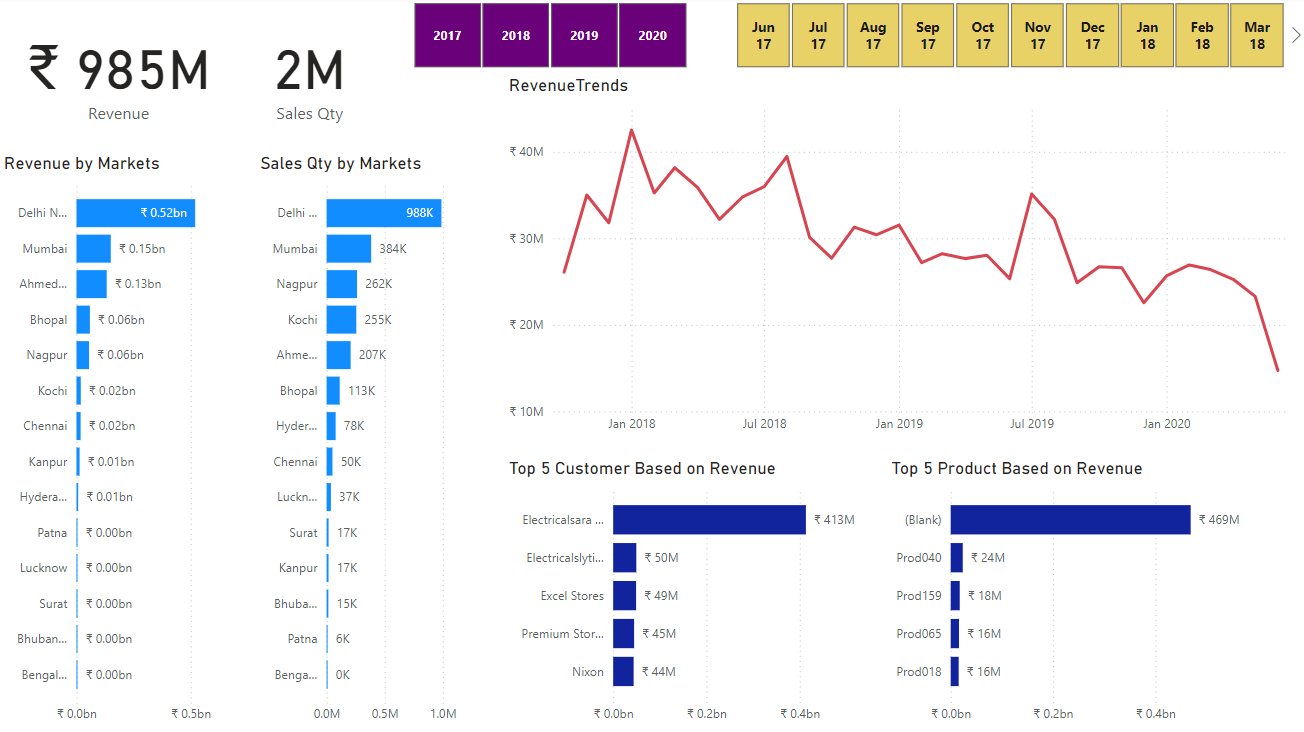

What the dashboard file says about the page in this screenshot:
{"tool":"powerbi","page":{"name":"Revenue Analysis","canvas":[1280,720],"ordinal":0},"visuals":[{"type":"card","fields":{"Values":["Base Measures.revenue"]},"box":[0,0,234.6,152.3],"z":0},{"type":"card","fields":{"Values":["Base Measures.Sum Sales Qty"]},"box":[229.2,0,150.9,152.3],"z":1000},{"type":"slicer","fields":{"Values":["sales date.year"]},"box":[380.1,0,315.6,76.8],"z":2000},{"type":"slicer","fields":{"Values":["sales date.cy_date"]},"box":[695.7,0,584.6,76.8],"z":3000},{"type":"barChart","title":"Revenue by Markets","fields":{"Category":["sales markets.markets_name"],"Y":["Base Measures.revenue"]},"box":[0,152.3,251.1,568.1],"z":4000},{"type":"barChart","title":"Sales Qty by Markets","fields":{"Y":["Base Measures.Sum Sales Qty"],"Category":["sales markets.markets_name"]},"box":[251.1,152.3,229.2,568.1],"z":5000},{"type":"barChart","title":"Top 5 Customer Based on Revenue","fields":{"Category":["sales customers.custmer_name"],"Y":["Base Measures.Revenue"]},"box":[494,451.5,374.6,269],"z":6000},{"type":"barChart","title":"Top 5 Product Based on Revenue","fields":{"Category":["sales products.product_code"],"Y":["Base Measures.Revenue"]},"box":[868.6,451.5,373.2,269],"z":7000},{"type":"lineChart","title":"RevenueTrends","fields":{"Y":["Base Measures.Revenue"],"Category":["sales date.cy_date.Variation.Date Hierarchy.Year","sales date.cy_date.Variation.Date Hierarchy.Quarter","sales date.cy_date.Variation.Date Hierarchy.Month","sales date.cy_date.Variation.Date Hierarchy.Day"]},"box":[494,76.8,786.3,359.5],"z":8000}]}

Visuals, with their boxes in screenshot pixels (x1, y1, x2, y2), scaled from the page's 1280x720 canvas onto the 1304x732 screenshot:
card - Base Measures.revenue: <box>0,0,239,155</box>
card - Base Measures.Sum Sales Qty: <box>233,0,387,155</box>
slicer - sales date.year: <box>387,0,709,78</box>
slicer - sales date.cy_date: <box>709,0,1303,78</box>
"Revenue by Markets" barChart: <box>0,155,256,731</box>
"Sales Qty by Markets" barChart: <box>256,155,489,731</box>
"Top 5 Customer Based on Revenue" barChart: <box>503,459,885,731</box>
"Top 5 Product Based on Revenue" barChart: <box>885,459,1265,731</box>
"RevenueTrends" lineChart: <box>503,78,1303,444</box>
